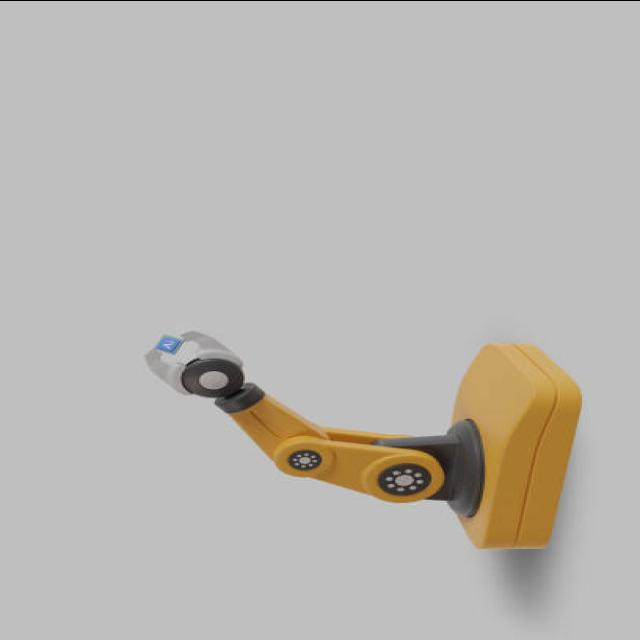Robotic-arm: (123, 300, 589, 552)
